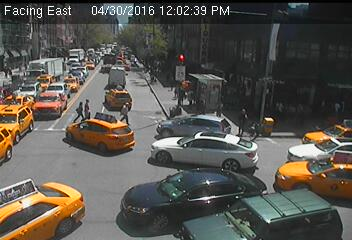neg: (85, 166, 118, 210), (290, 85, 322, 129), (33, 169, 59, 204), (264, 47, 288, 79), (19, 115, 43, 146), (12, 57, 35, 88), (192, 112, 210, 137), (124, 41, 142, 65), (206, 159, 222, 181), (193, 69, 208, 88), (175, 51, 188, 68)
pos: (234, 107, 254, 134), (118, 99, 136, 123), (212, 93, 229, 116), (80, 96, 96, 117), (69, 100, 85, 121)
